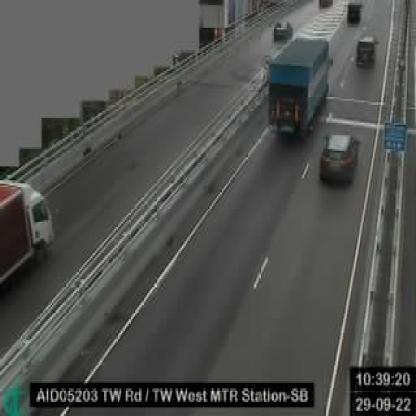Car: (319, 123, 360, 198), (351, 30, 385, 74), (268, 17, 296, 47), (342, 0, 368, 26), (315, 0, 334, 12)
Truck: (263, 31, 338, 144), (0, 173, 62, 292)
